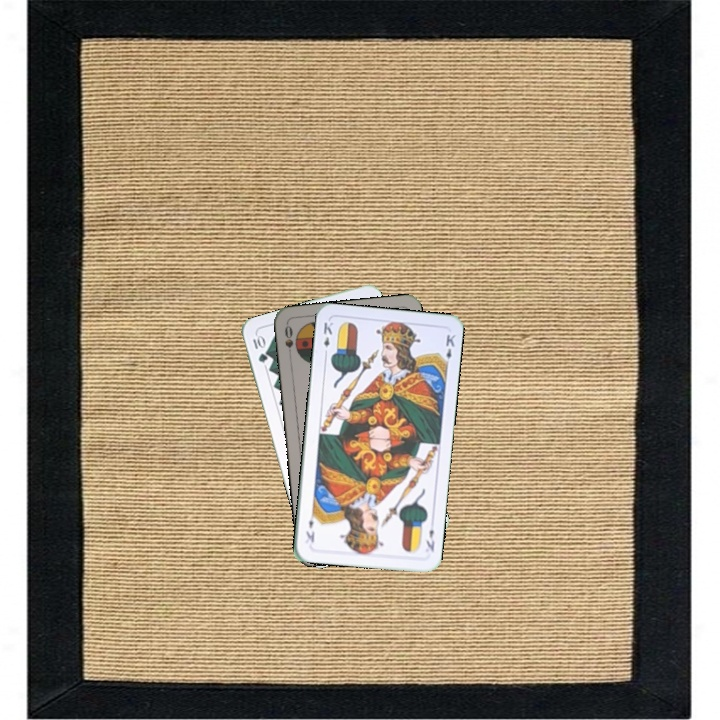EK: (320, 318, 335, 358), (422, 517, 437, 554)
G10: (249, 331, 270, 365)
SO: (280, 321, 296, 362)
